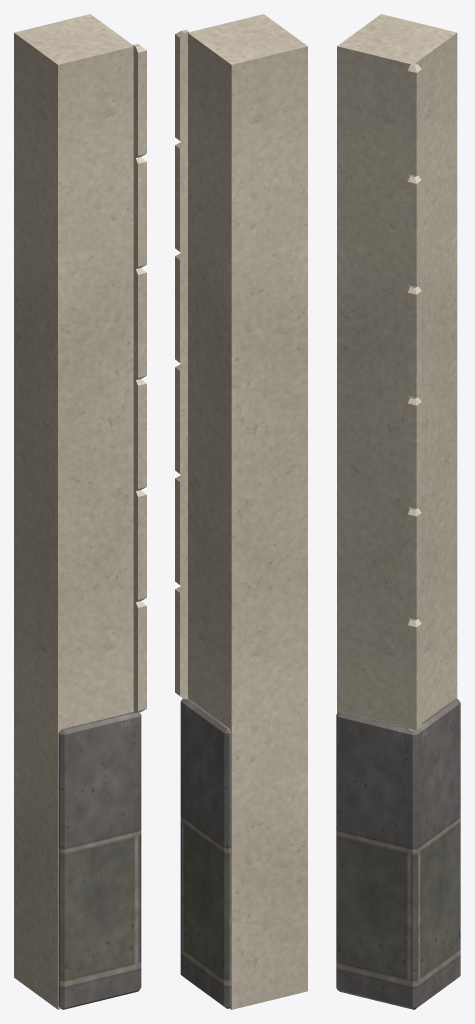
File: corner_g.glb
3 views of the same model, side by side, from view 1: azimuth 30°, elevation 25°; view 2: azimuth 210°, elevation 25°; view 3: azimuth 330°, elevation 25° (orthographic).
Parts seen in each view (by area): view 1: corner_g_rust, corner_g_plinth; view 2: corner_g_rust, corner_g_plinth; view 3: corner_g_rust, corner_g_plinth.
Boxes of the visible parts, left/top/right/bottom form: corner_g_rust: left=14, top=14, right=146, bottom=1009; corner_g_plinth: left=58, top=711, right=141, bottom=1009; corner_g_rust: left=175, top=14, right=307, bottom=1009; corner_g_plinth: left=180, top=698, right=231, bottom=1008; corner_g_rust: left=337, top=14, right=457, bottom=989; corner_g_plinth: left=336, top=698, right=460, bottom=1009.
Size of the model in its own units: 0.331 by 3.55 by 0.331.
2 materials, 2 textured.
